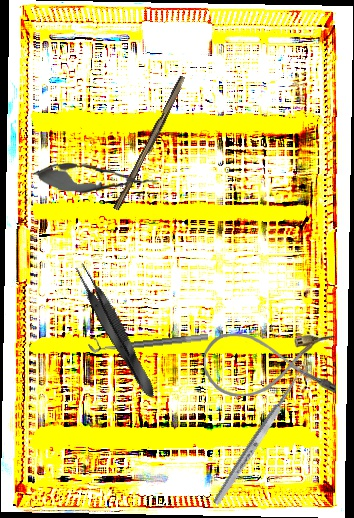Cannula: (204, 334, 336, 396)
Fixation Ring: (87, 323, 209, 354)
Micro Scissor: (31, 159, 161, 198)
Scalpel Handle: (112, 74, 189, 213)
Surgical Spoon: (210, 362, 311, 507)
Tissue Forceps: (69, 260, 162, 403)
